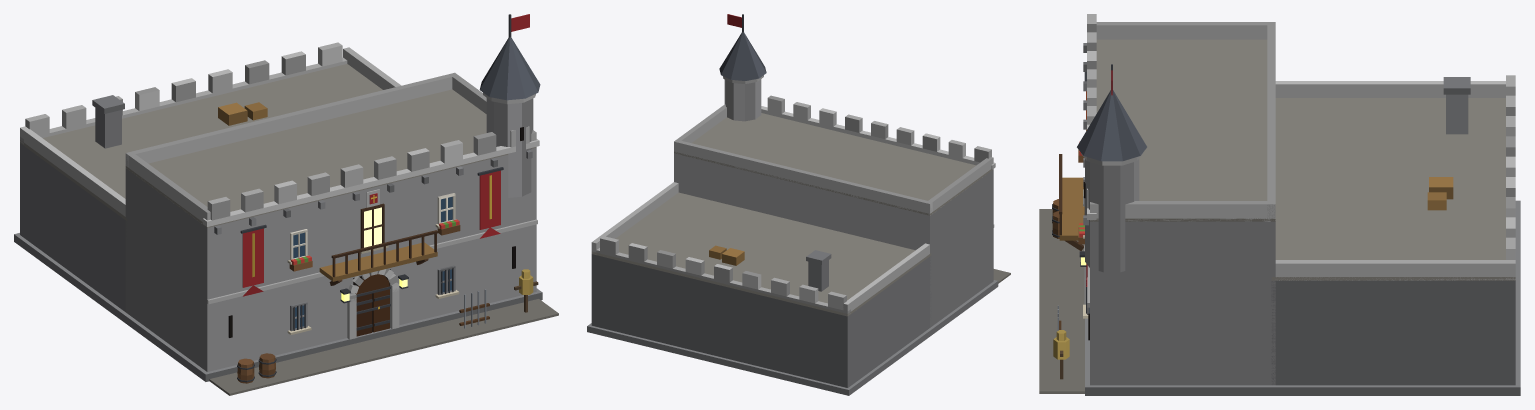
File: city_barracks.glb
3 views of the same model, side by side, from view 1: azimuth 30°, elevation 25°; view 2: azimuth 150°, elevation 25°; view 3: azimuth 270°, elevation 25° (orthographic). The views are drawn at different scales.
Parts seen in each view (by area): view 1: city_barracks_body, city_barracks_ground; view 2: city_barracks_body; view 3: city_barracks_body, city_barracks_ground.
Boxes of the visible parts, left/top/right/bottom form: city_barracks_body: left=14, top=14, right=542, bottom=383; city_barracks_ground: left=209, top=299, right=558, bottom=395; city_barracks_body: left=587, top=14, right=998, bottom=395; city_barracks_body: left=1052, top=14, right=1520, bottom=395; city_barracks_ground: left=1039, top=209, right=1084, bottom=393.
Bounding box in the file's own units: 16.51 × 13 × 17.72.
